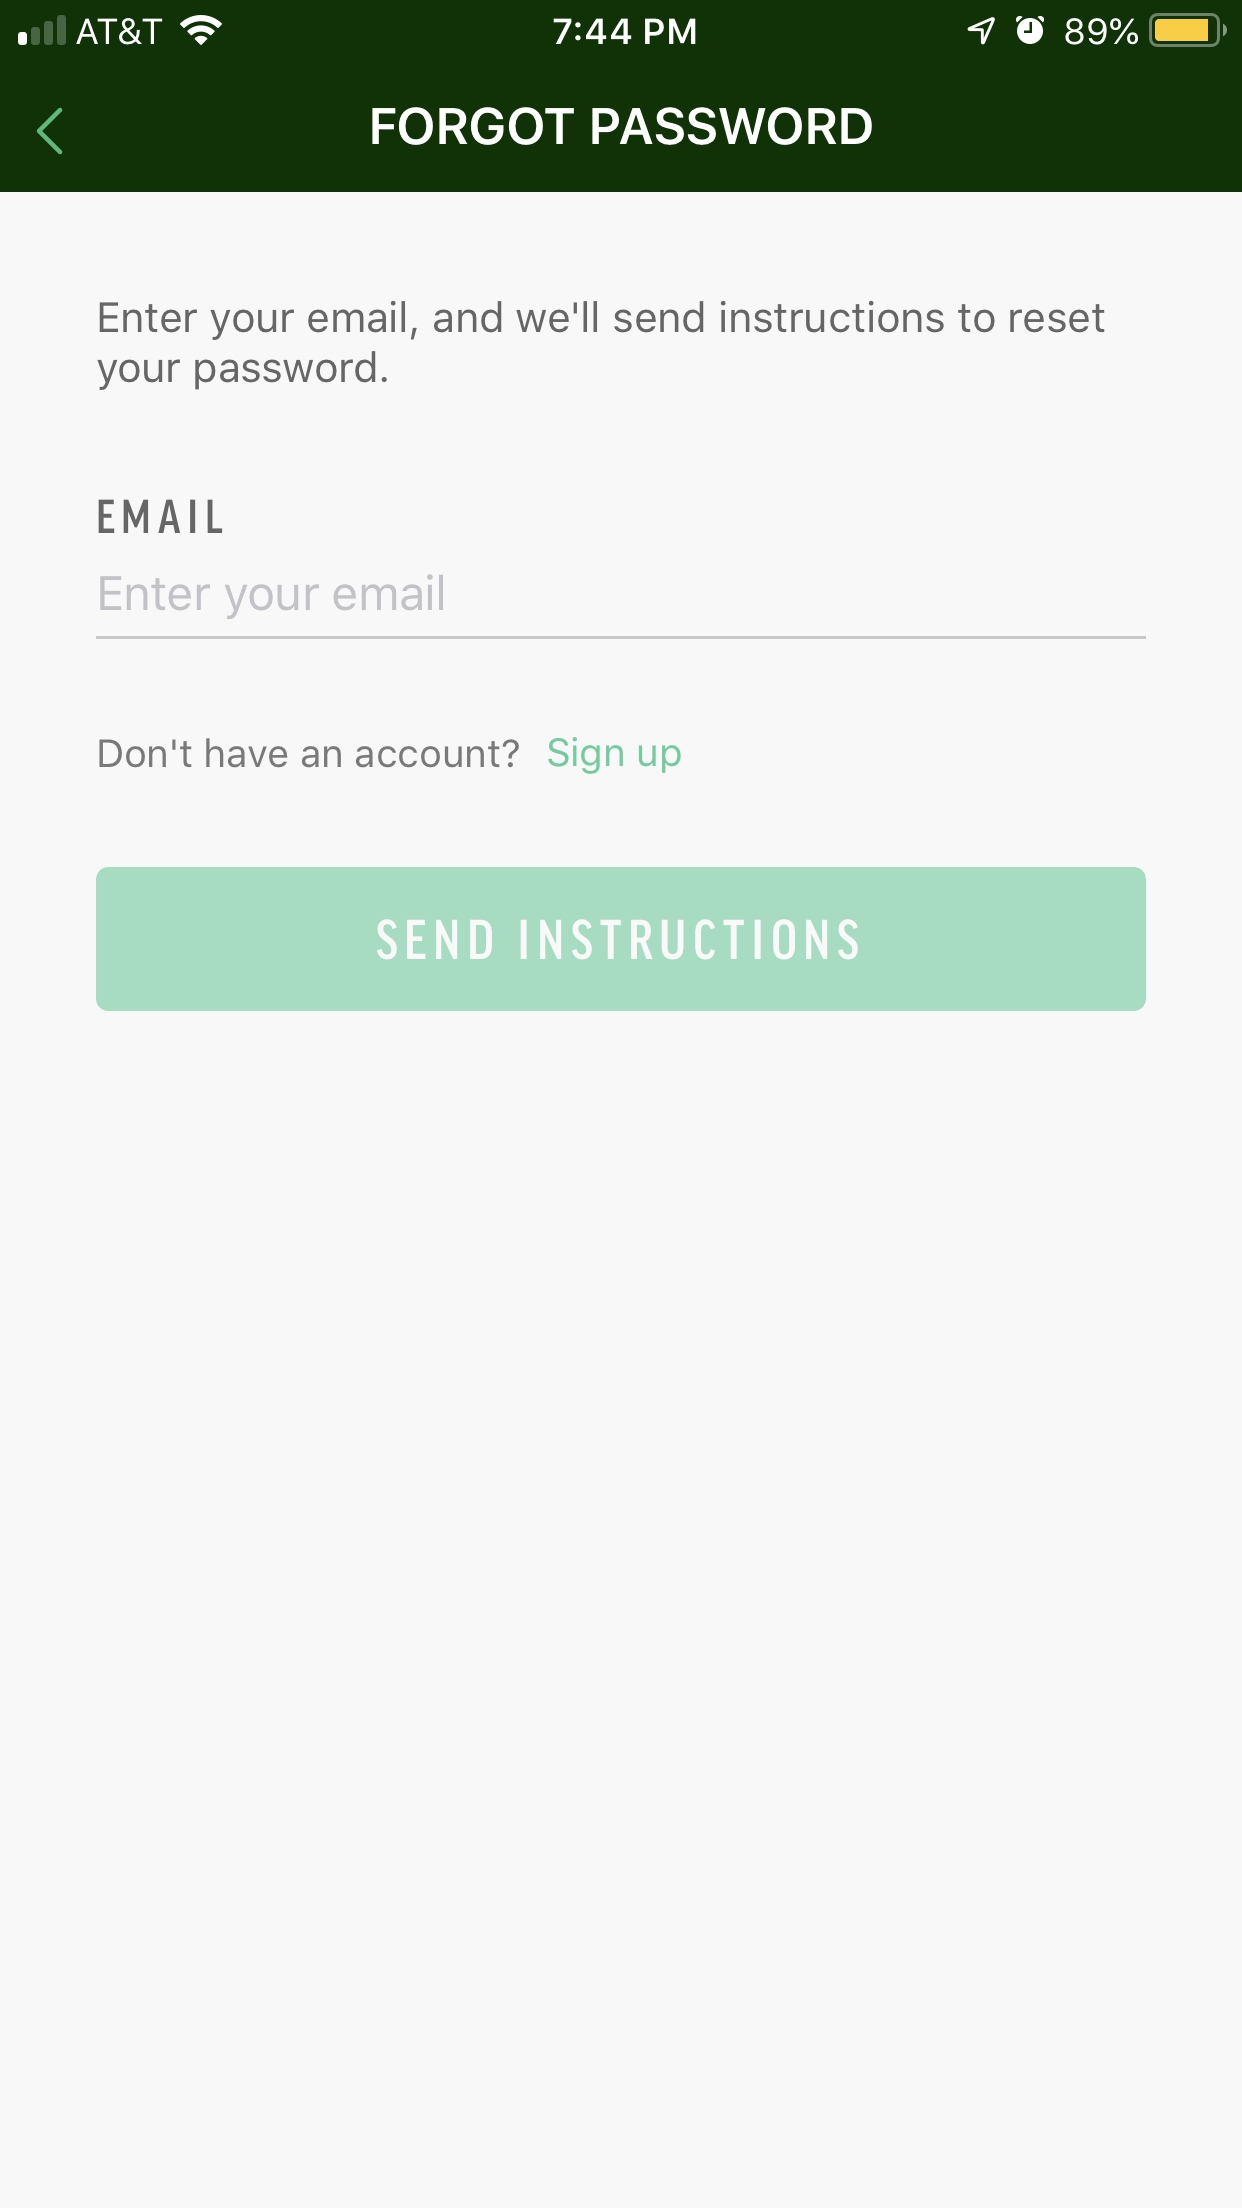EditText: (96, 575, 1146, 641)
Icon: (36, 108, 64, 156)
Text: (97, 300, 1106, 391), (100, 735, 682, 775), (372, 108, 873, 147), (100, 575, 444, 620), (99, 499, 224, 535)
TextButton: (97, 867, 1146, 1011)
UpperTaskBar: (2, 2, 1242, 49)
